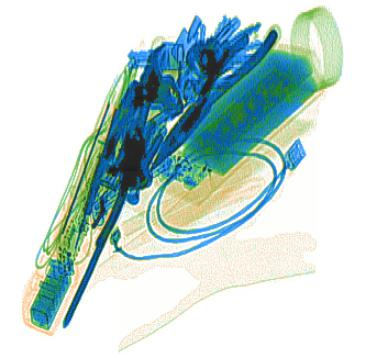battery: (26, 257, 75, 329)
